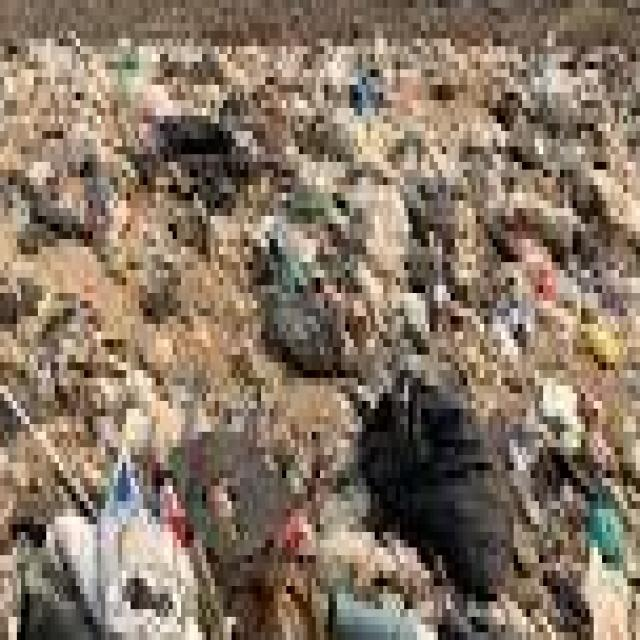-: (0, 46, 640, 617)
